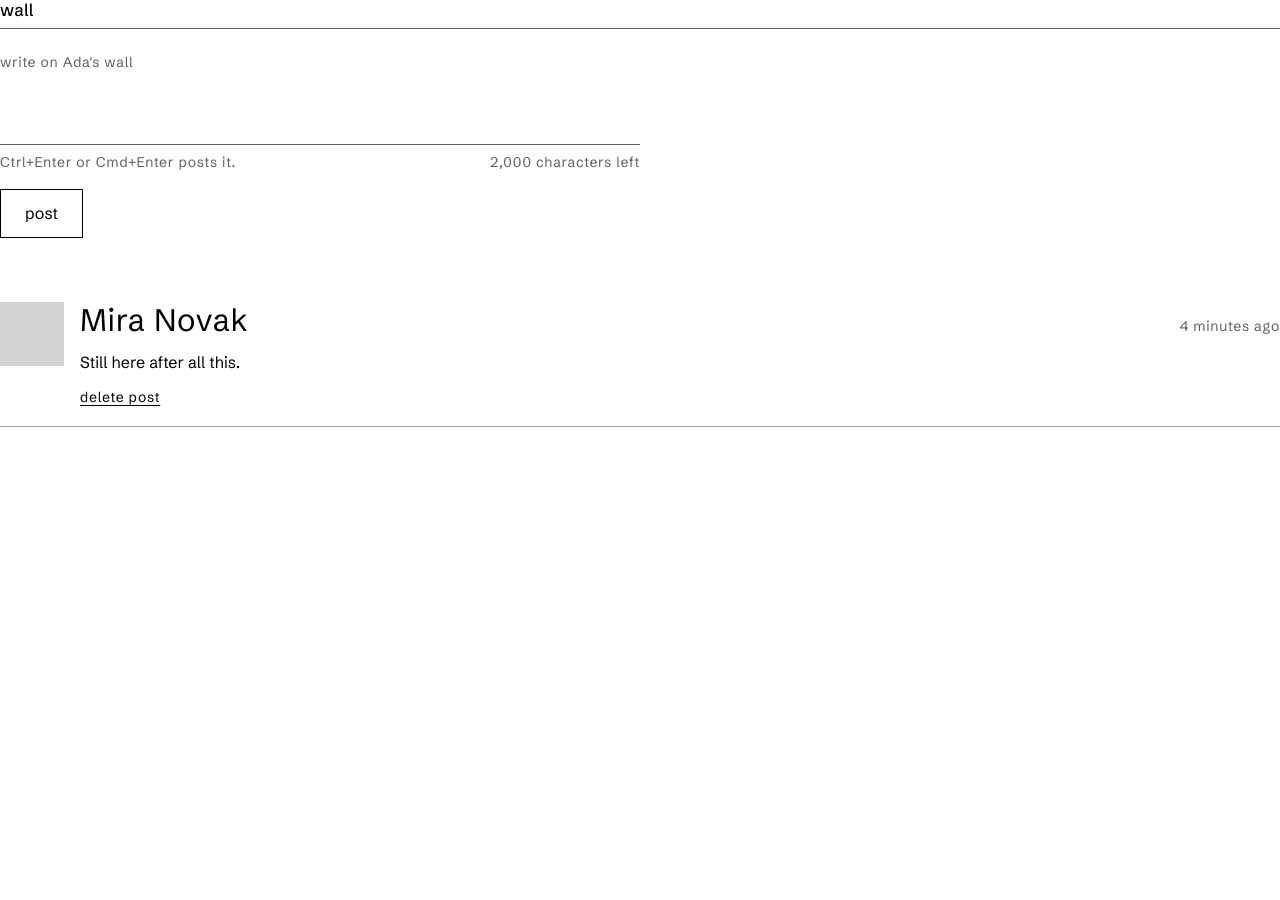
Wall › F-71: "cancel" keeps the post, and a refused delete keeps the dialog open with the reason
Click the button named "delete post by Mira Novak".
click(120, 398)  # box [80,386,160,410]
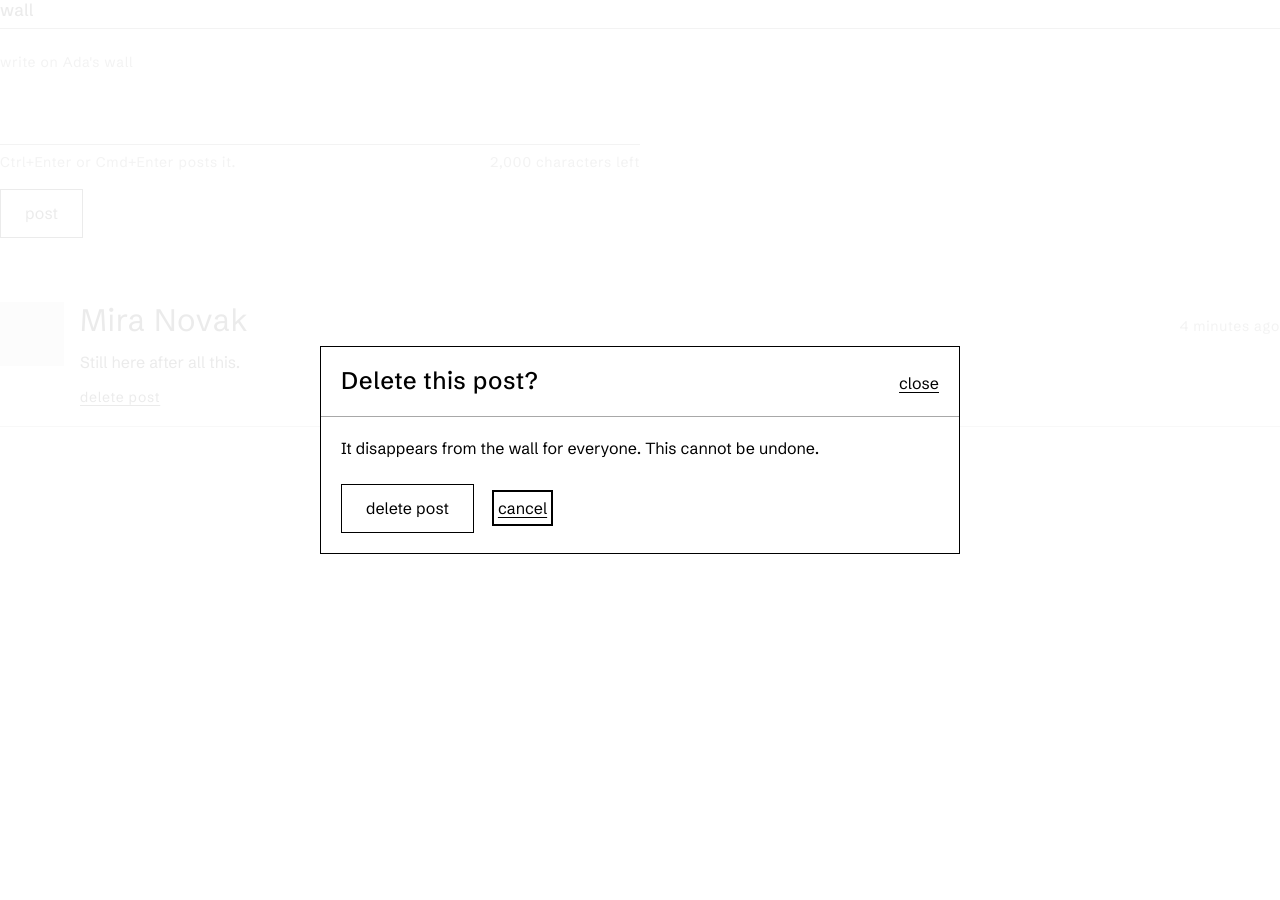
Click the button "cancel".
click(522, 508)  # box [498,496,547,520]
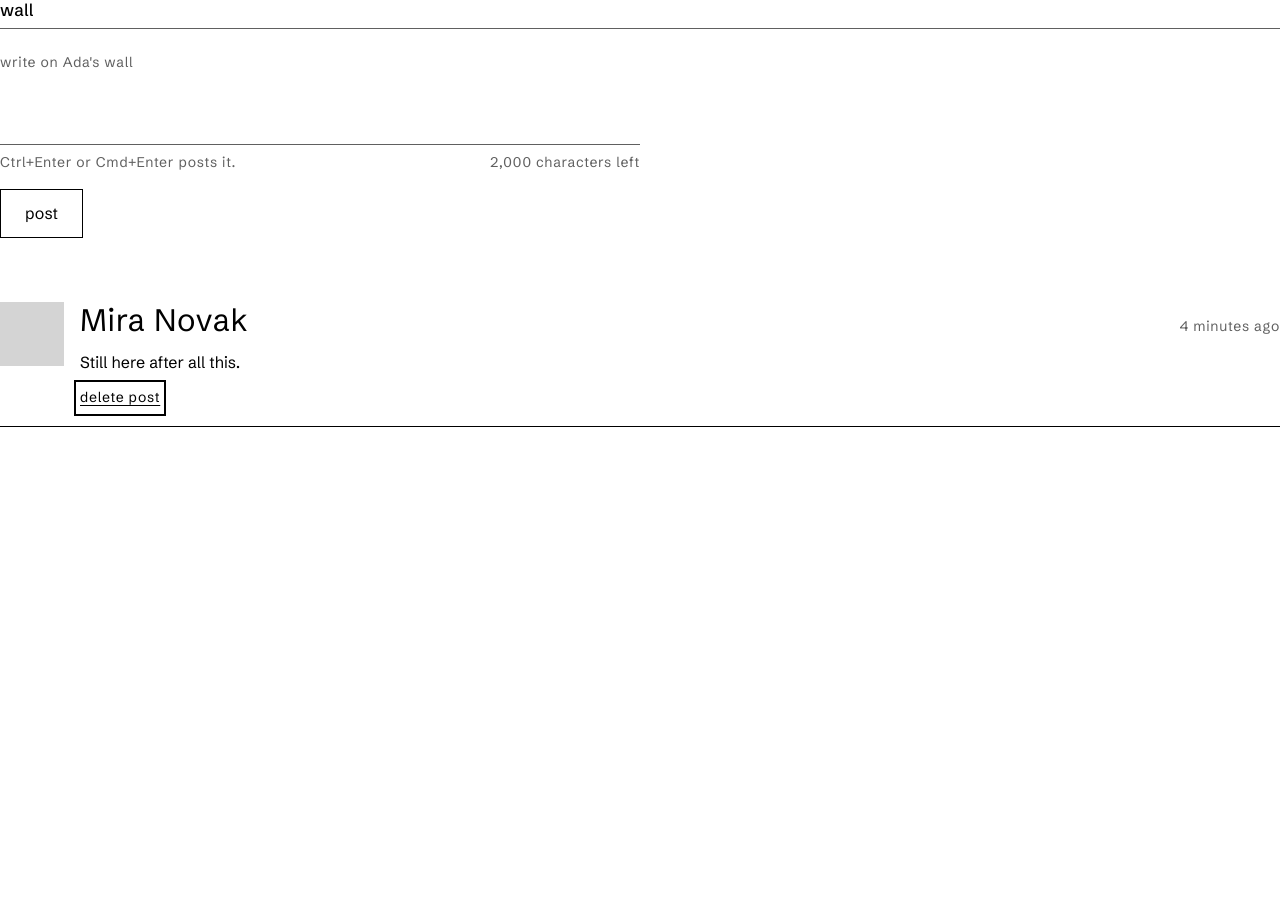
Expected: the text "Still here after all this." is shown, [80,351,240,374]
Result: the dialog is gone
Click the button named "delete post by Mira Novak".
click(120, 398)  # box [80,386,160,410]
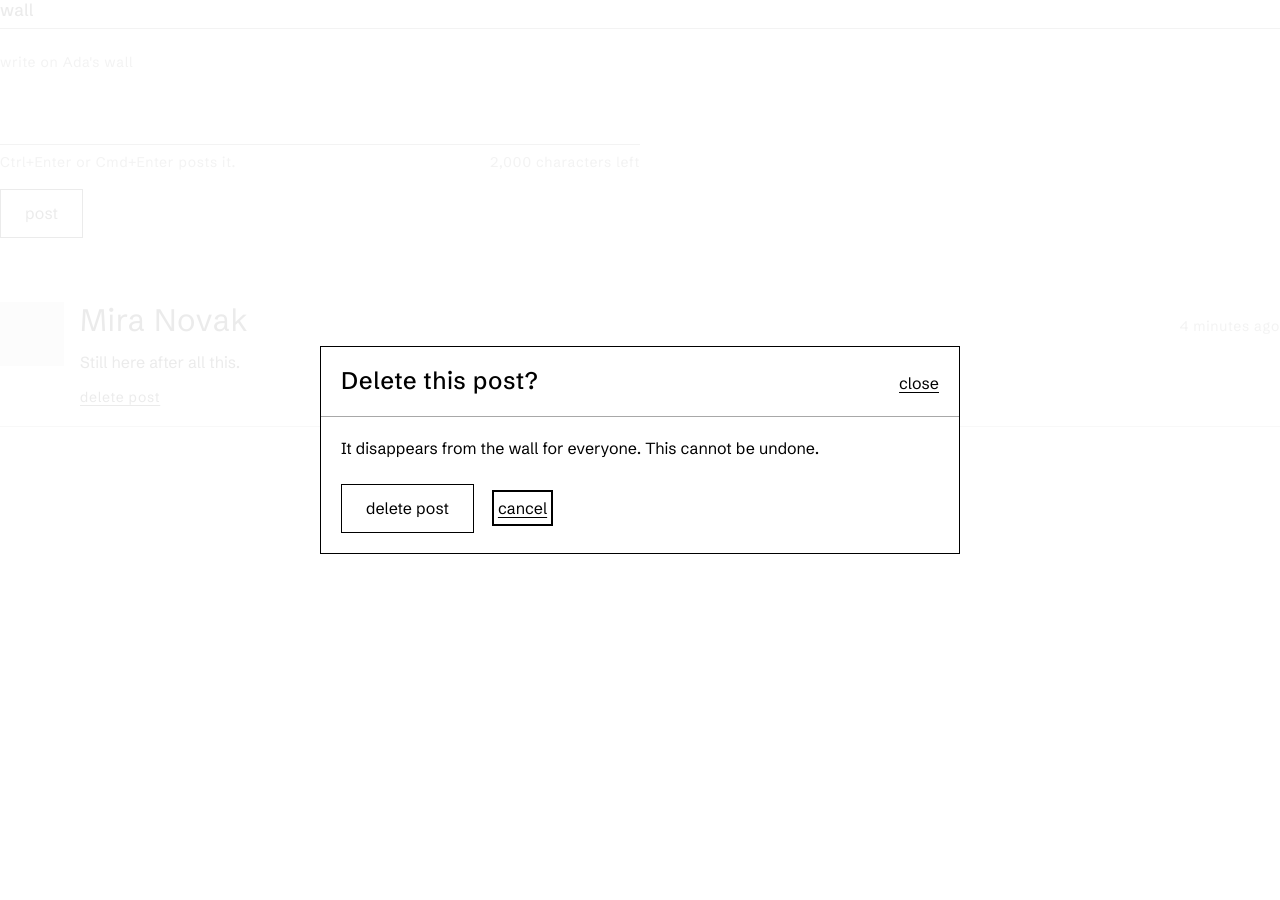
Click the button "delete post".
click(407, 508)  # box [341,484,474,533]
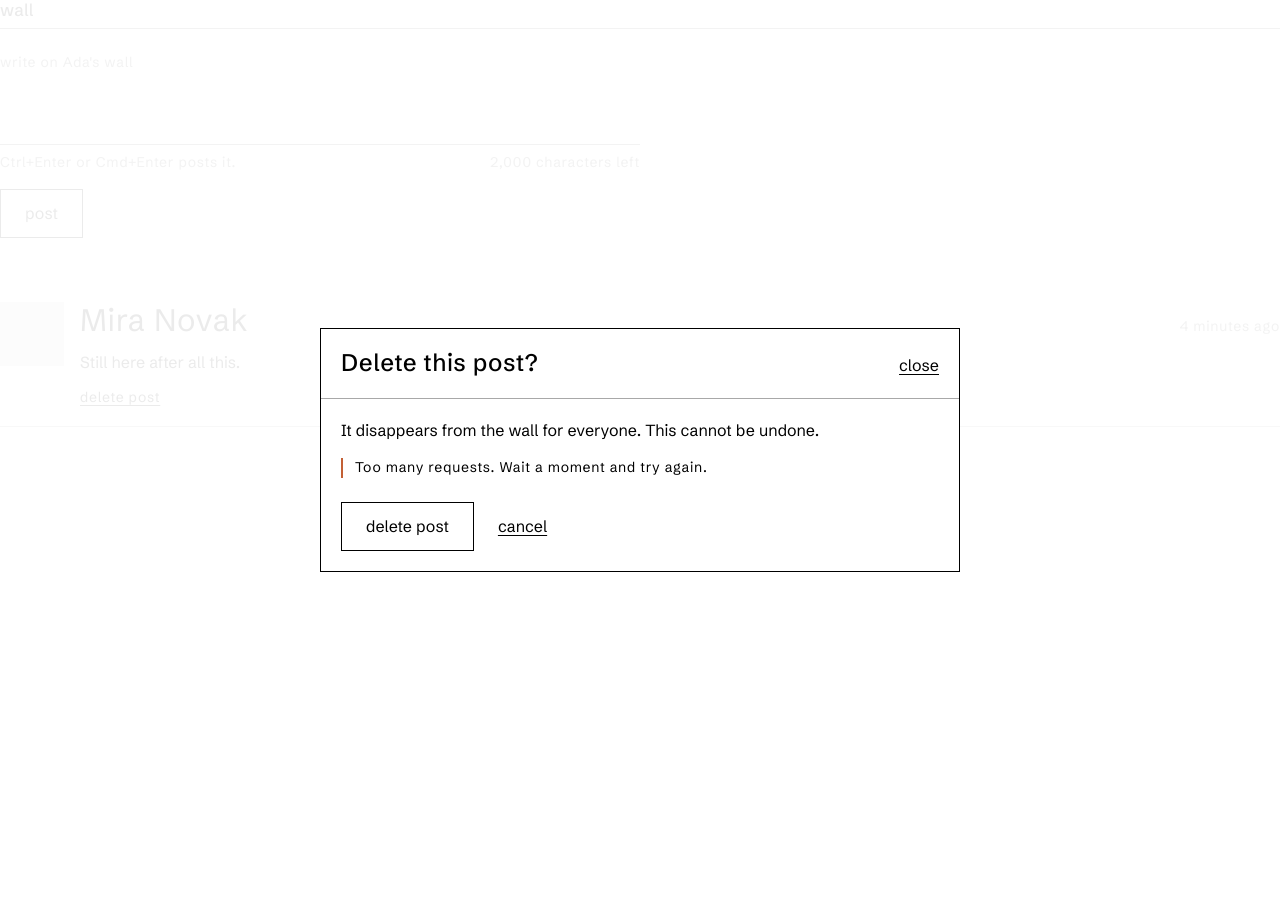
Result: the message reads "Too many requests. Wait a moment and try again." at [355,458,708,476]
